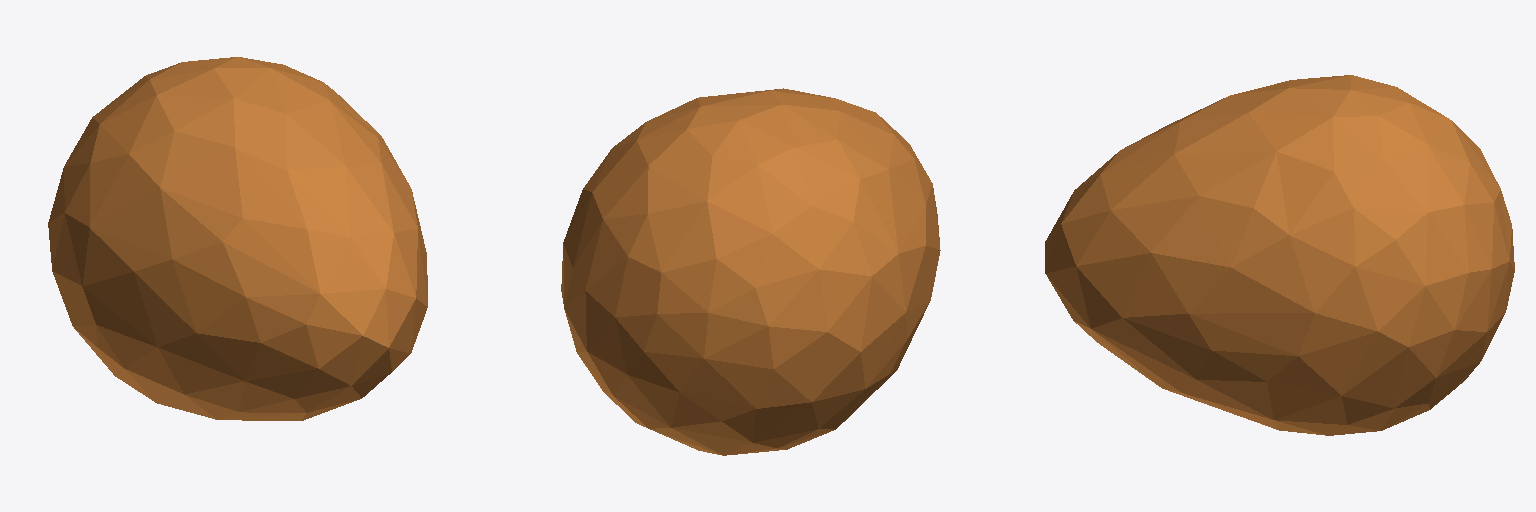
The model's file is low_poly_egg.obj.
3 renders of one model, left to right at view 1: azimuth 30°, elevation 25°; view 2: azimuth 150°, elevation 25°; view 3: azimuth 270°, elevation 25°, orthographic.
Visible parts, largest first — view 1: Icosphere.002; view 2: Icosphere.002; view 3: Icosphere.002.
Part boxes in pixels (x1,y1,x2,y2): Icosphere.002: (48,57,427,420); Icosphere.002: (561,88,940,455); Icosphere.002: (1045,75,1514,435).
Bounding box in the file's own units: 2.11 × 2.11 × 2.76.